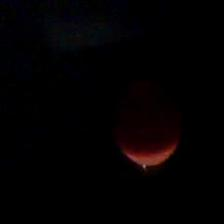fertile: (108, 65, 182, 167)
